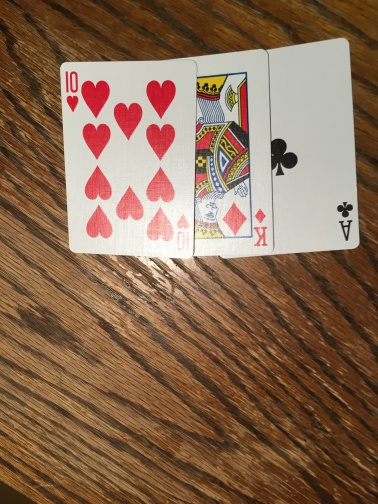ace: (266, 37, 360, 253)
king: (192, 49, 276, 254)
ten: (56, 59, 197, 258)
